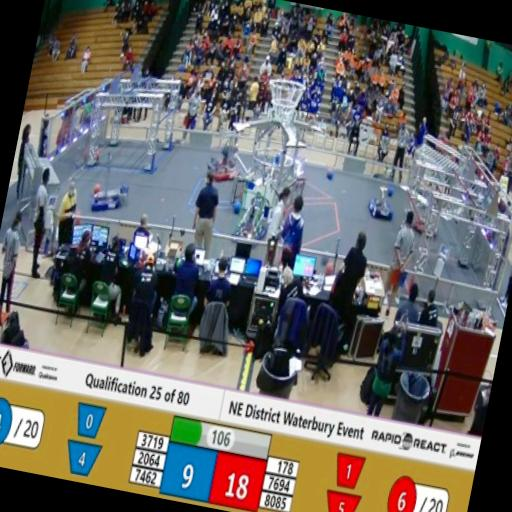robot: (230, 171, 280, 254), (90, 149, 136, 216), (203, 126, 246, 188), (411, 194, 447, 241), (364, 178, 400, 224)
